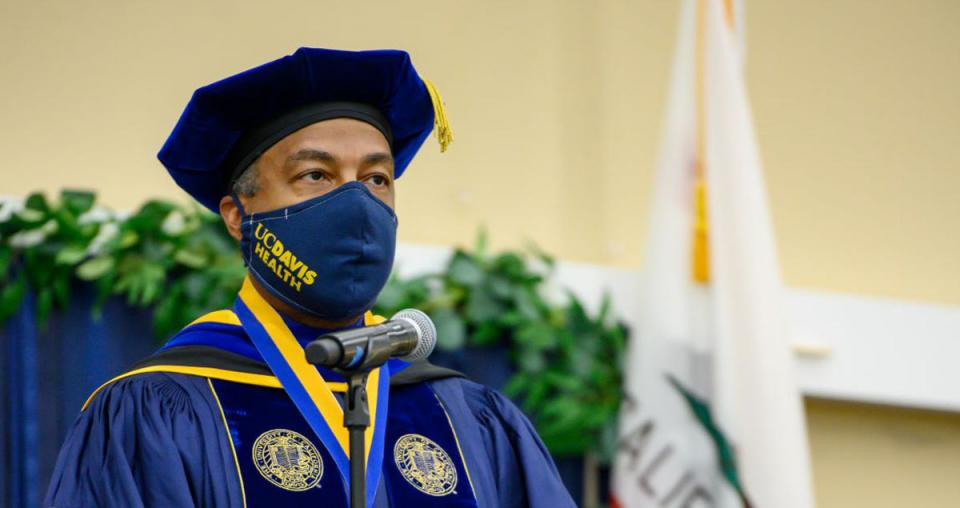with_mask: (199, 61, 427, 319)
